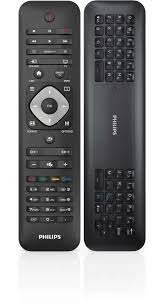remote control: (81, 0, 148, 256), (17, 2, 81, 253)
